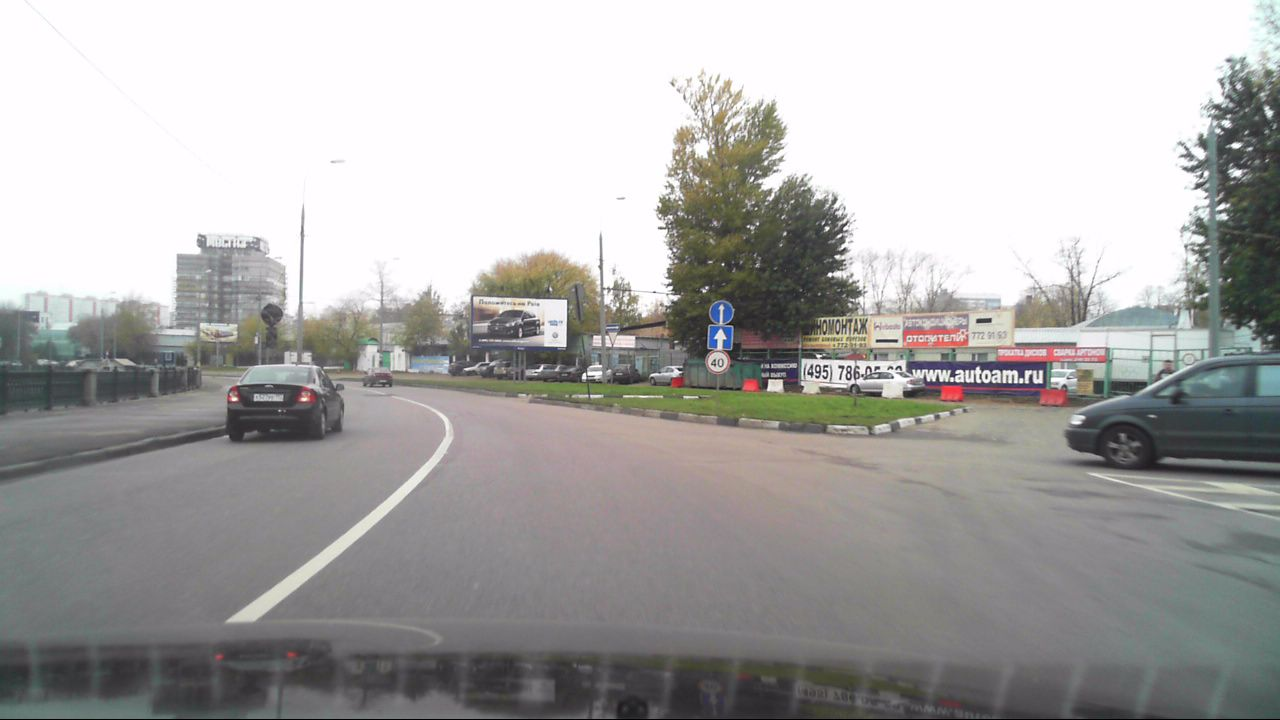speed_warning_40: (705, 349, 729, 373)
